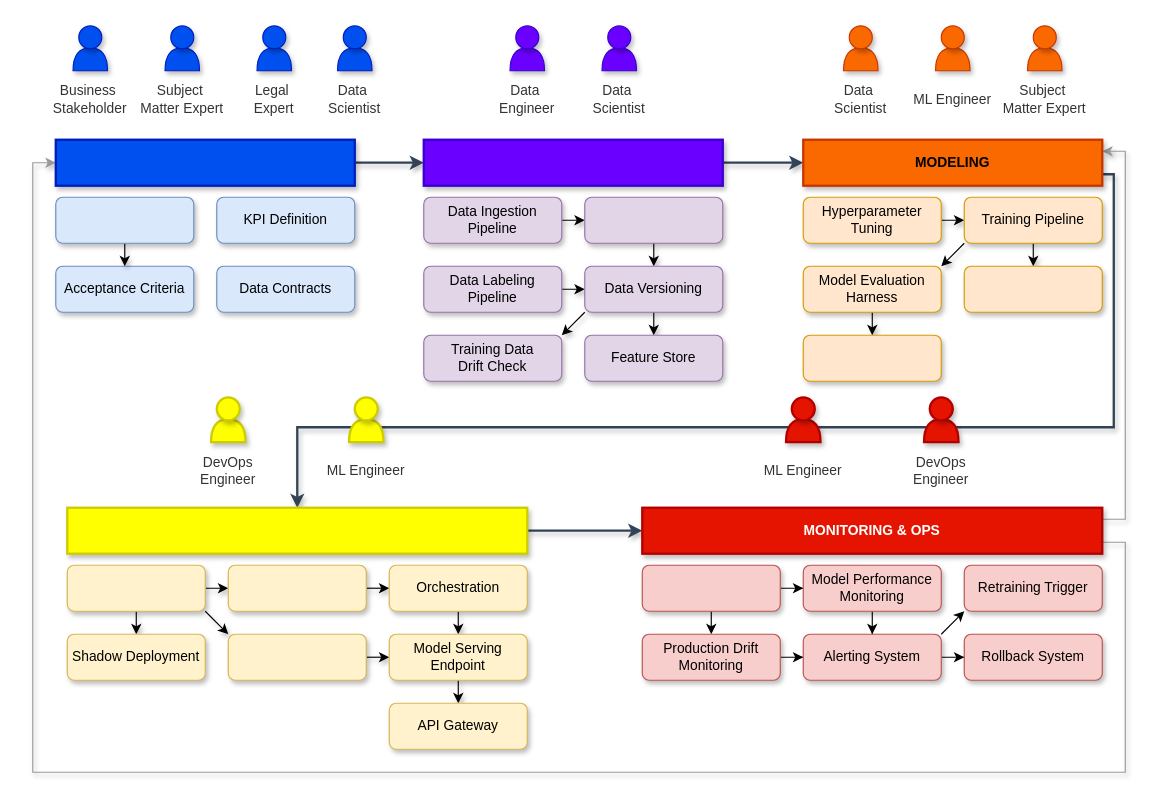
Image size: 1162x810. Some labels were removed from this diagram. Here are the shapes that lost their labels. From the top down, the centre of each, then its label:
point (205, 163): REQUIREMENTS
point (573, 163): DATA
point (125, 221): Risk Assessment
point (654, 221): Data Validation
point (1034, 290): Experiment Tracking
point (873, 359): Model Registry
point (298, 531): DEPLOYMENT
point (137, 589): CI/CD Pipeline
point (298, 589): Containerization
point (712, 589): Logging & Observability
point (298, 658): Canary & A/B Testing
